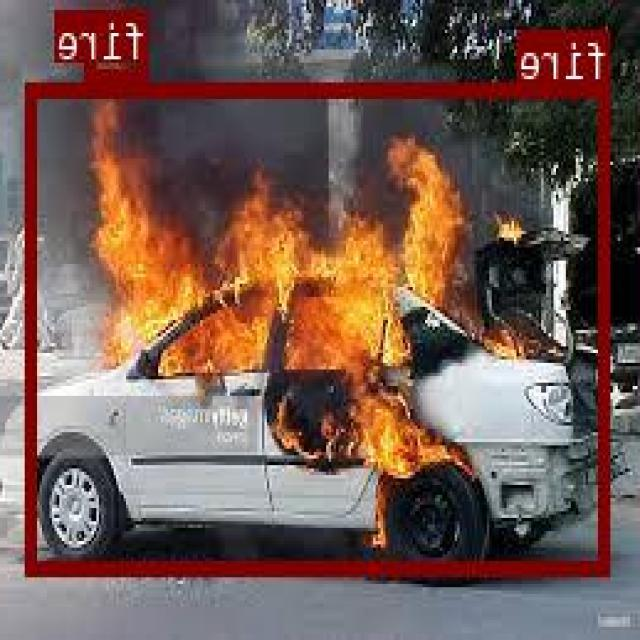fire: (28, 80, 612, 573), (88, 8, 150, 82)
